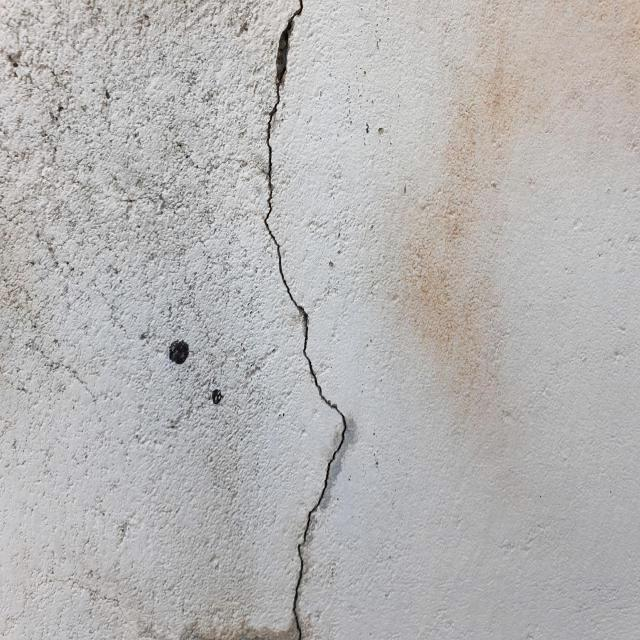SurfaceCrack: (229, 0, 388, 640)
